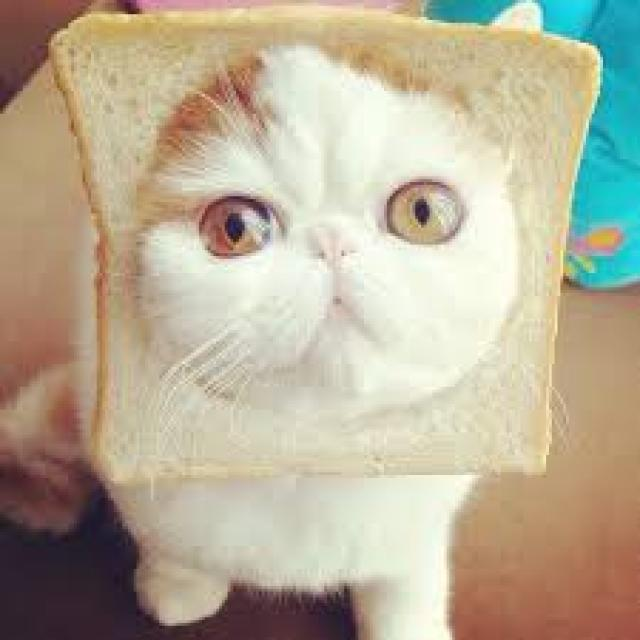cat: (0, 11, 594, 637)
